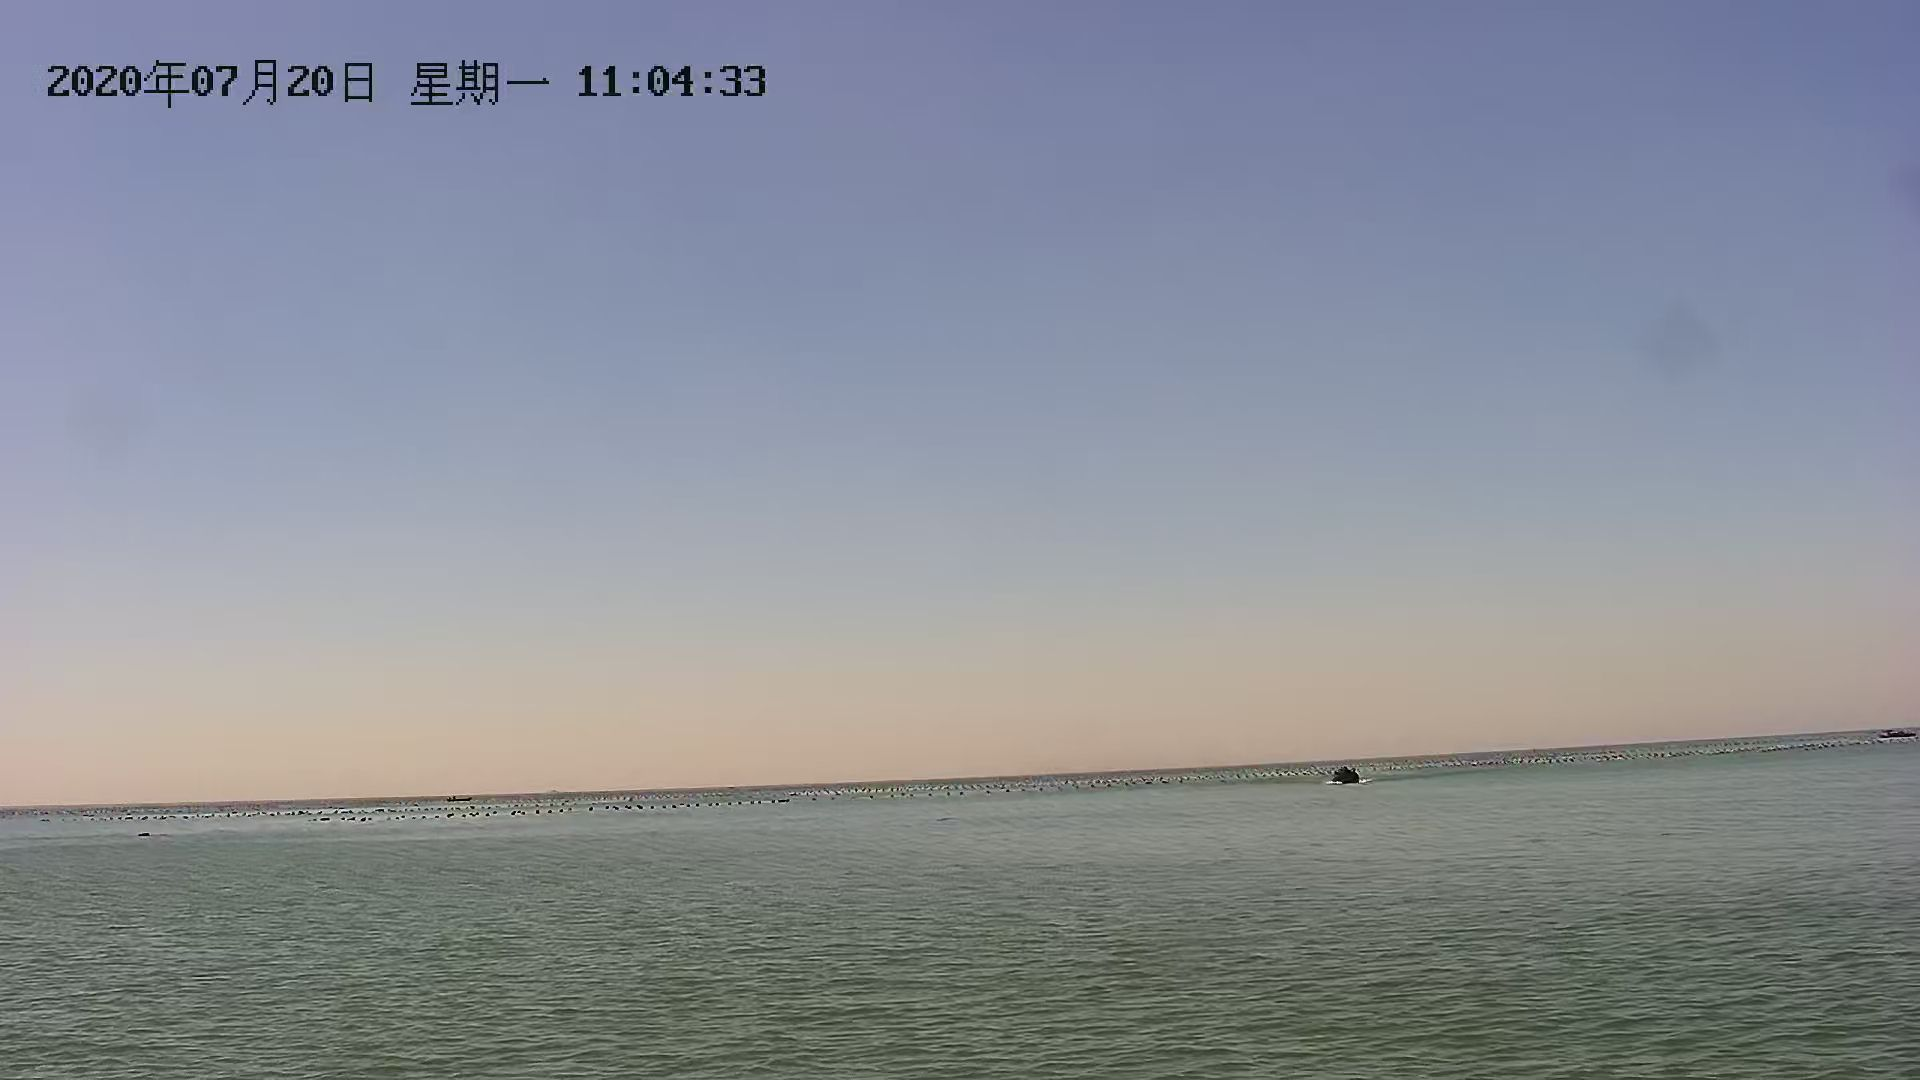rubbish: (1328, 758, 1364, 791)
